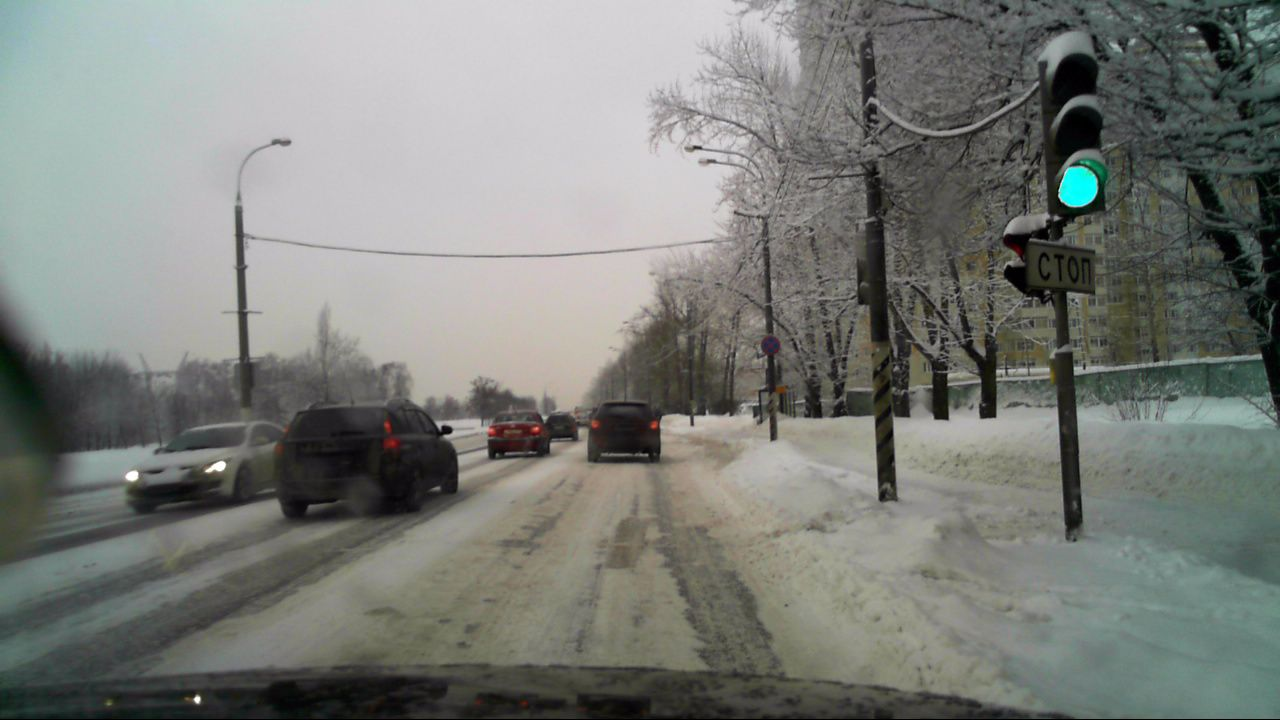No Parking: (760, 332, 784, 359)
